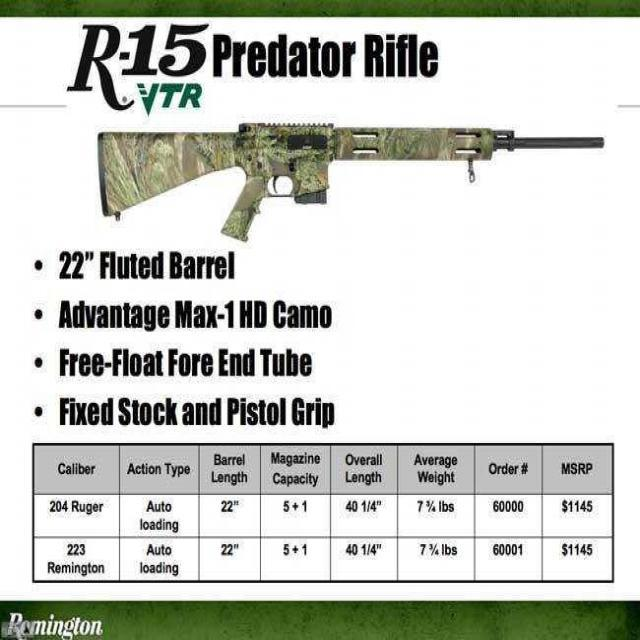weapon: (84, 102, 618, 250)
